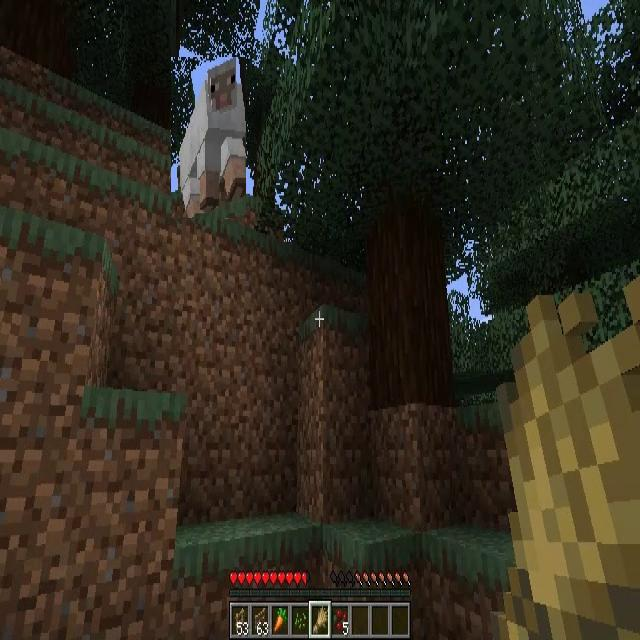sheep: (171, 57, 246, 218)
